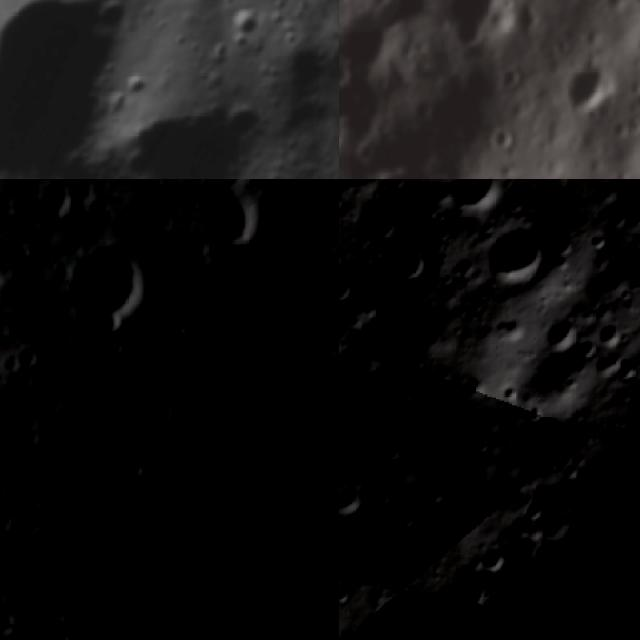crater: (44, 337, 339, 640), (0, 0, 178, 179), (81, 42, 281, 179), (502, 316, 611, 428), (0, 0, 69, 167), (466, 200, 567, 303), (54, 239, 147, 335), (424, 553, 504, 630), (188, 180, 253, 260), (265, 29, 338, 100), (407, 292, 474, 366), (520, 524, 584, 594), (434, 179, 514, 232), (339, 264, 395, 339), (440, 0, 519, 51), (554, 53, 618, 114), (384, 229, 446, 291), (370, 360, 431, 420), (339, 318, 396, 380), (446, 358, 504, 417), (213, 0, 275, 52), (307, 259, 339, 357), (533, 307, 589, 362), (375, 405, 426, 458), (339, 468, 379, 532), (363, 202, 409, 250), (474, 533, 518, 577), (592, 311, 635, 355), (370, 432, 411, 472), (27, 179, 71, 215), (184, 179, 262, 198), (387, 500, 425, 538), (534, 155, 591, 179), (610, 350, 640, 392), (2, 342, 39, 376), (14, 480, 50, 511), (358, 0, 410, 9), (339, 602, 350, 637)
